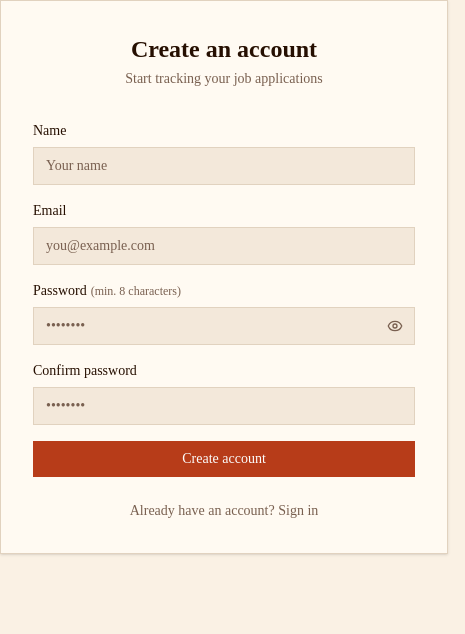
Test: RegisterPage › shows error when password is shorter than 8 characters
In the field labelled "Name": (224, 166) left=33, top=147, right=415, bottom=185, type "Test User"
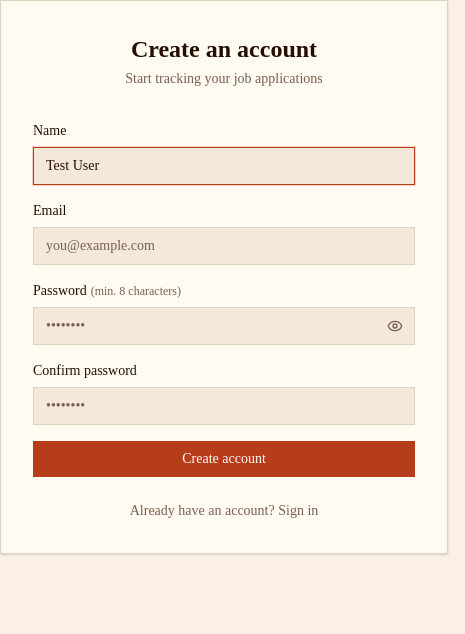
In the field labelled "Email": (224, 246) left=33, top=227, right=415, bottom=265, type "test@example.com"
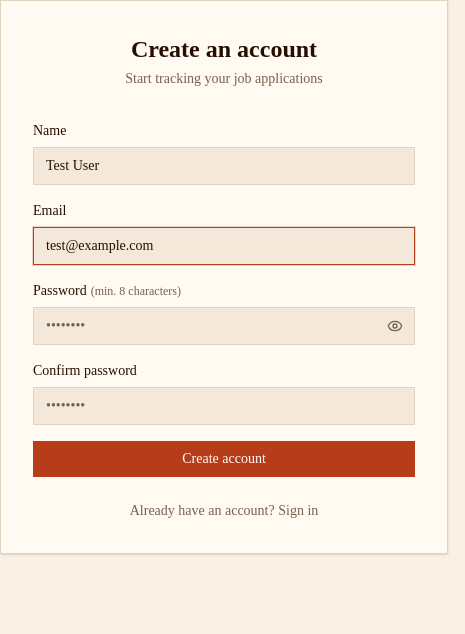
In the password field labelled "Password(min. 8 characters)": (224, 326) left=33, top=307, right=415, bottom=345, type "short"
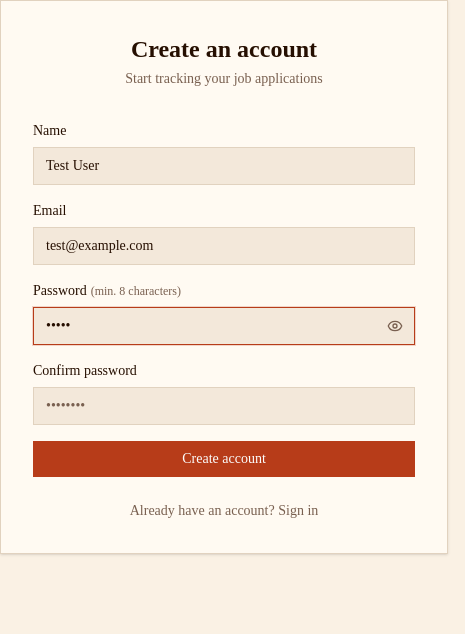
In the password field labelled "Confirm password": (224, 406) left=33, top=387, right=415, bottom=425, type "short"
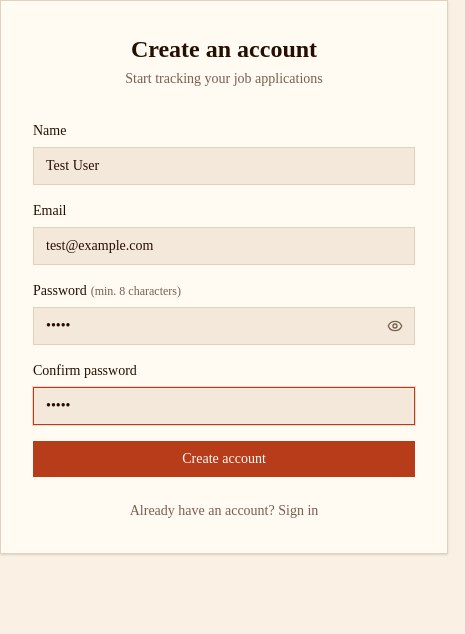
Click the button "Create account": (224, 459) left=33, top=441, right=415, bottom=477
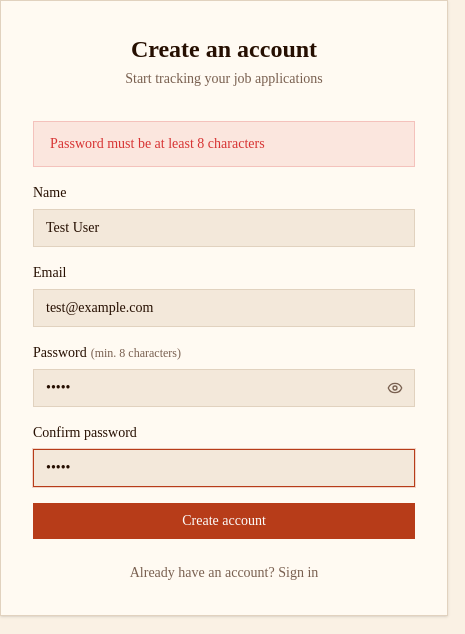
Check: the message shows "at least 8 characters", box left=50, top=136, right=265, bottom=151
